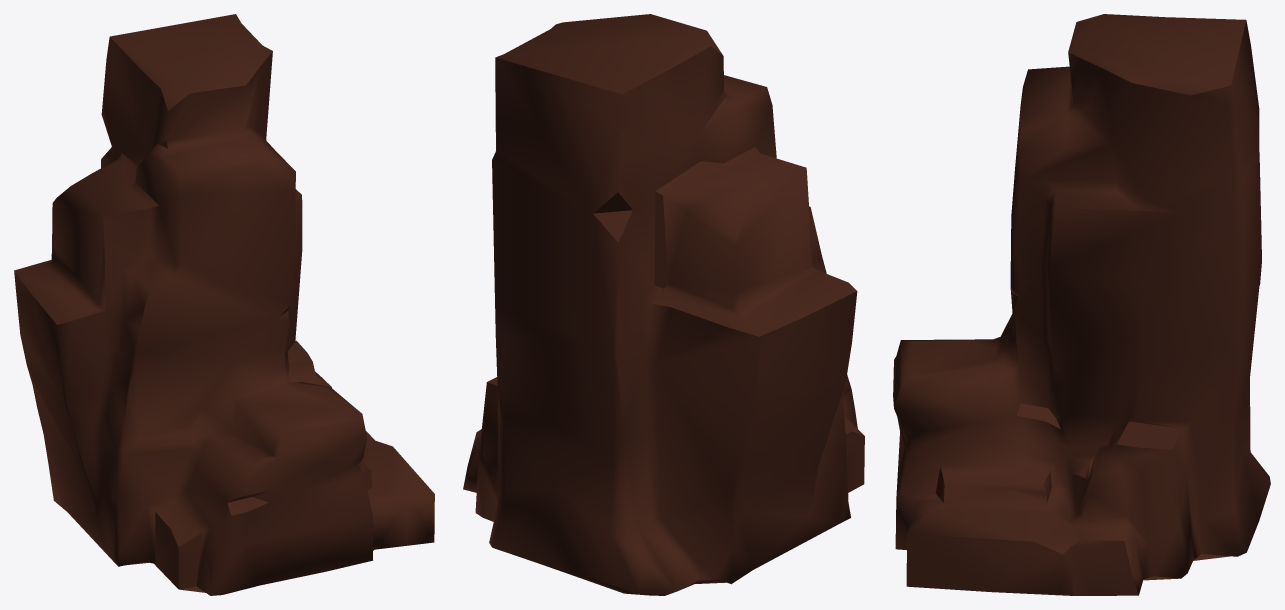
File: sc_FeiTu_mesh_shan2.FBX
3 views of the same model, side by side, from view 1: azimuth 30°, elevation 25°; view 2: azimuth 150°, elevation 25°; view 3: azimuth 270°, elevation 25° (orthographic). The views are drawn at different scales.
Visible parts, largest first — view 1: mesh_shan2; view 2: mesh_shan2; view 3: mesh_shan2.
Boxes of the visible parts, x1,y1,x2,y2 form: mesh_shan2: [14, 14, 434, 595]; mesh_shan2: [463, 14, 864, 595]; mesh_shan2: [893, 14, 1270, 595].
Size of the model in its own units: 726 by 935 by 670.
